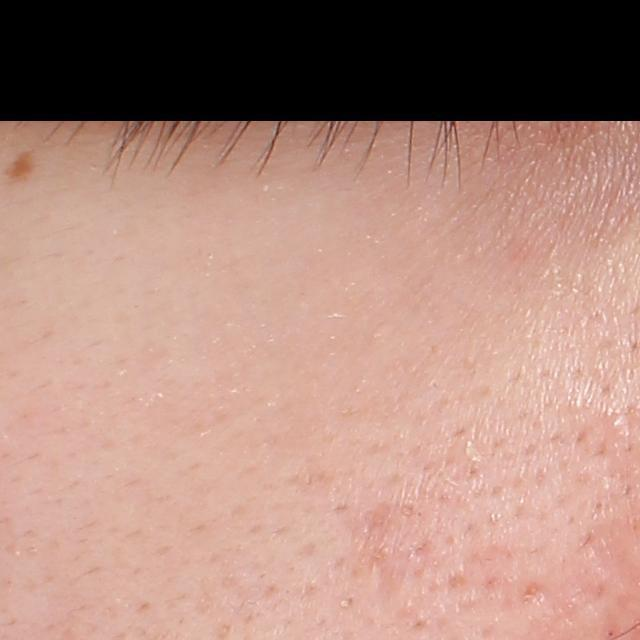atrophic_scar: (518, 580, 549, 609)
melasma: (4, 145, 39, 184)
